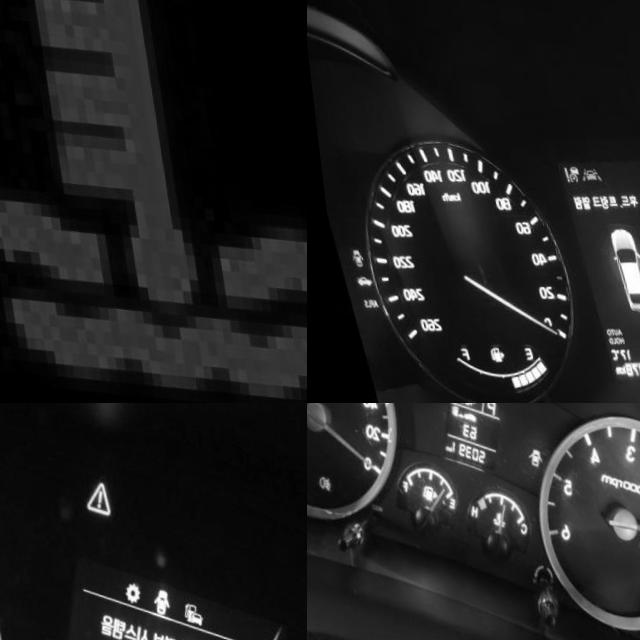Central Warning lamp: (79, 468, 115, 510)
Doors: (521, 436, 538, 456), (342, 246, 357, 267)
Engine cooling system: (0, 0, 307, 403)
FrontFogLight: (309, 469, 326, 487)
LaneCenteringOff: (573, 157, 598, 177)
